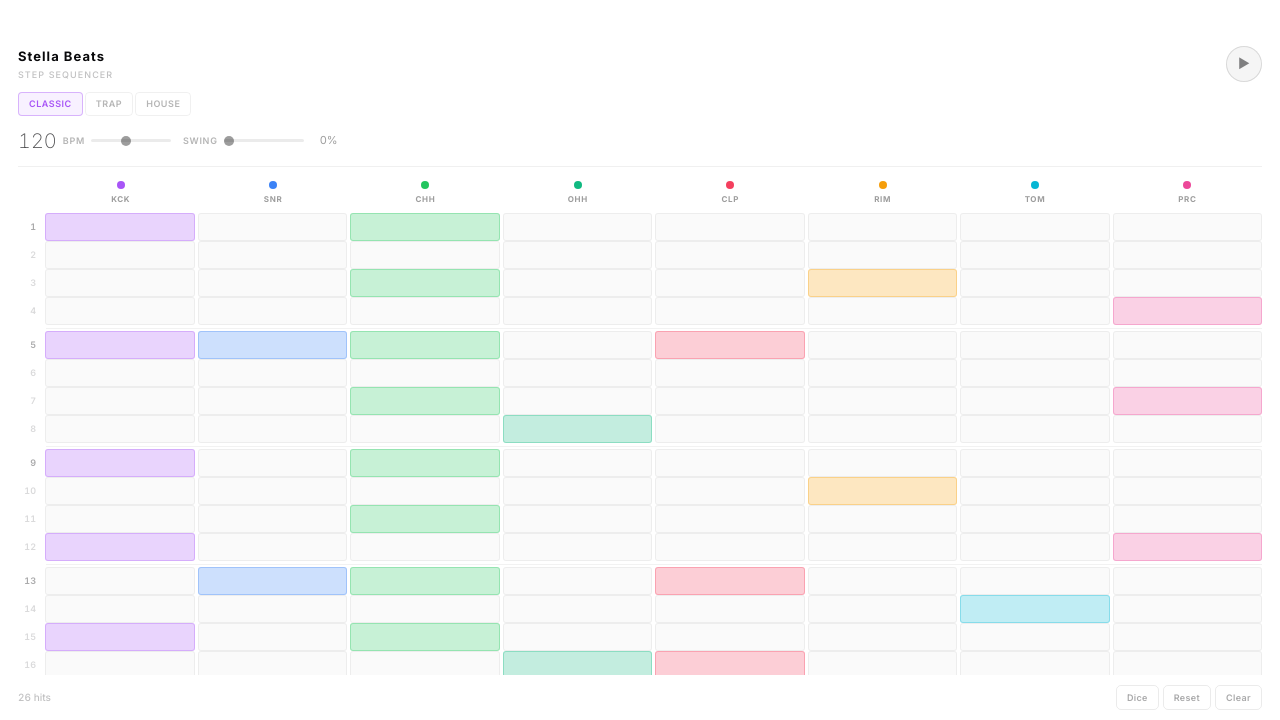
Test: DJStudioDemo › footer actions › clears all steps when Clear is clicked
This screenshot has width=1280, height=720.
Click the button "Clear" at (1239, 697), box [1215, 684, 1262, 710]
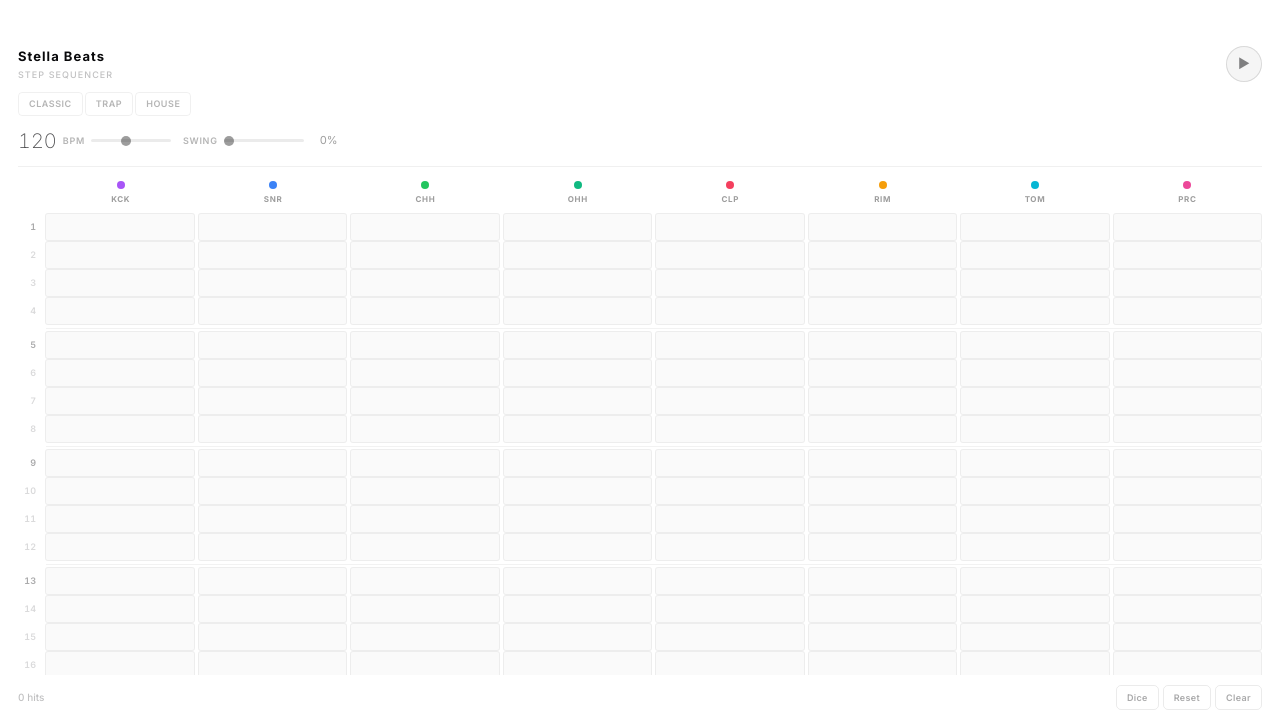
Expected: the text "0 hits" is shown, [18, 690, 44, 705]
